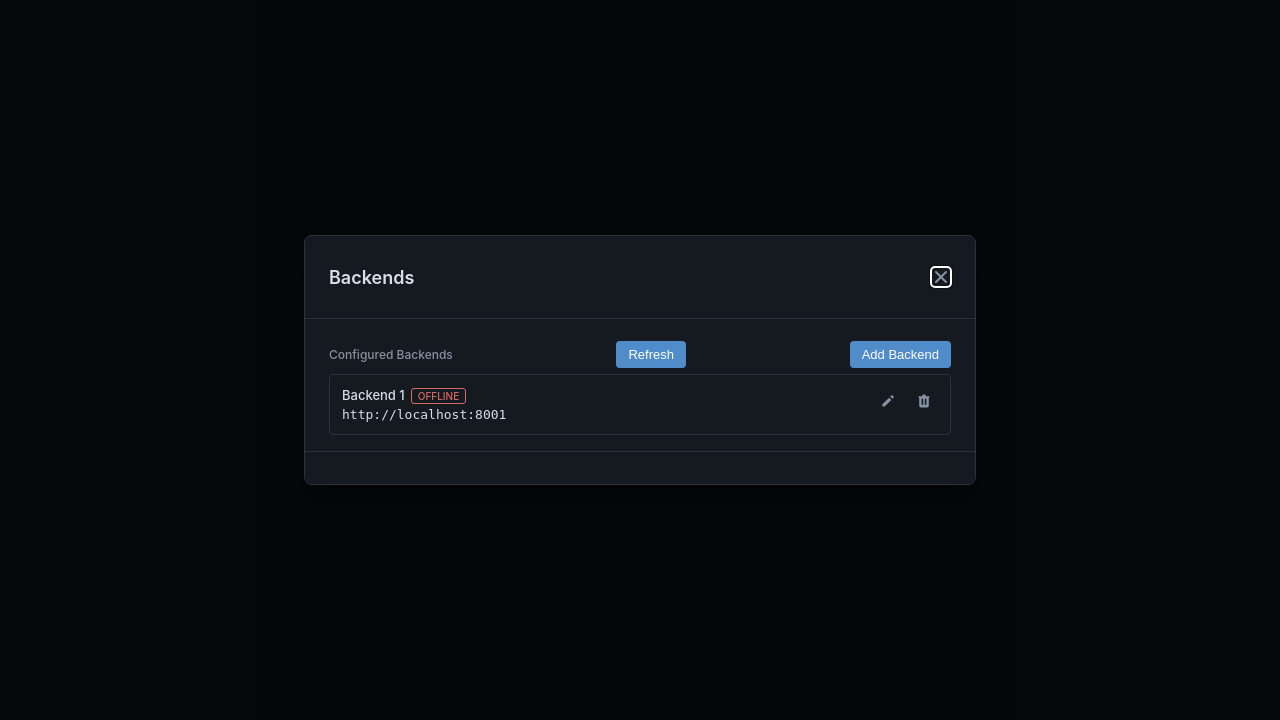
Test: BackendsDialog › shows form when editing a backend
Step 1. Click the button titled "Edit" → coordinates (888, 401), box 874,387 -> 902,415
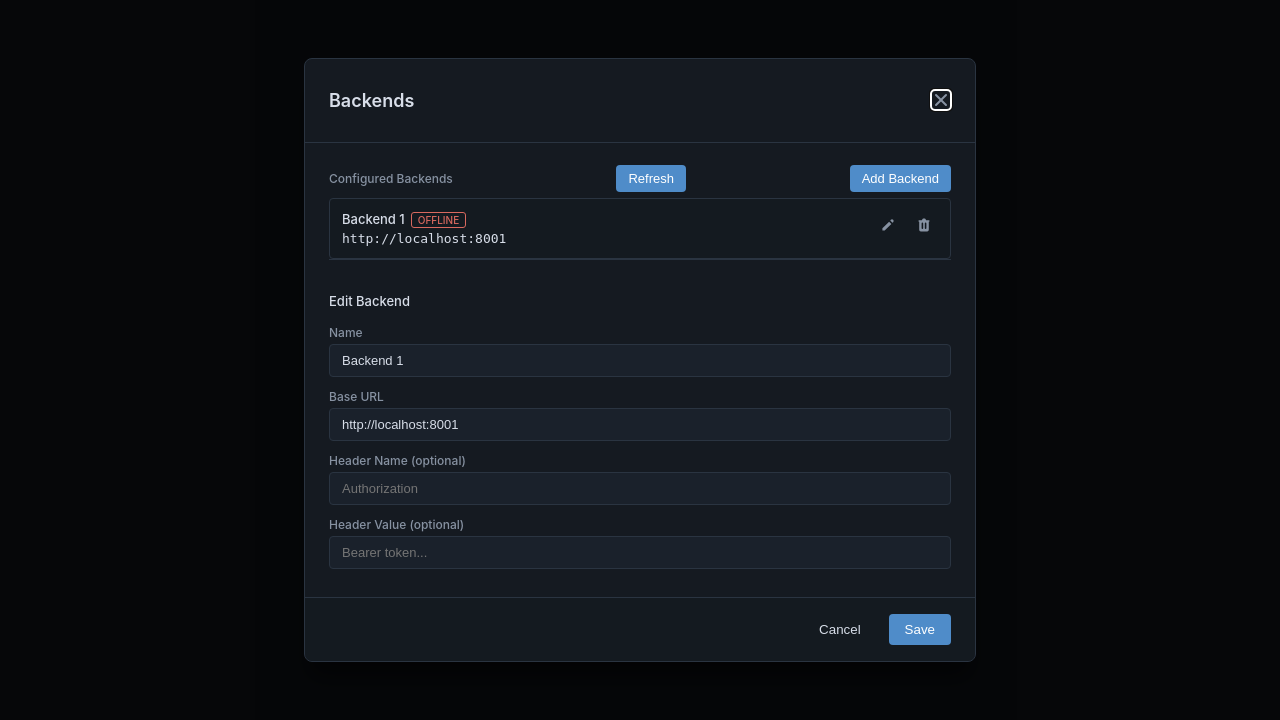
expect the field showing "Backend 1" is shown: met, box 329,344 -> 951,377
